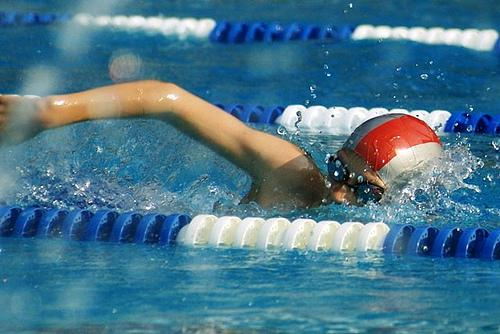human: (0, 77, 480, 218)
